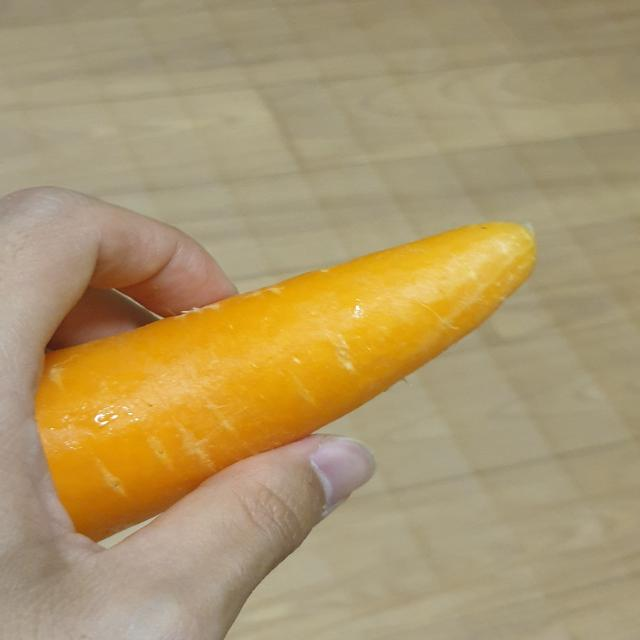Carrot: (4, 210, 561, 548)
